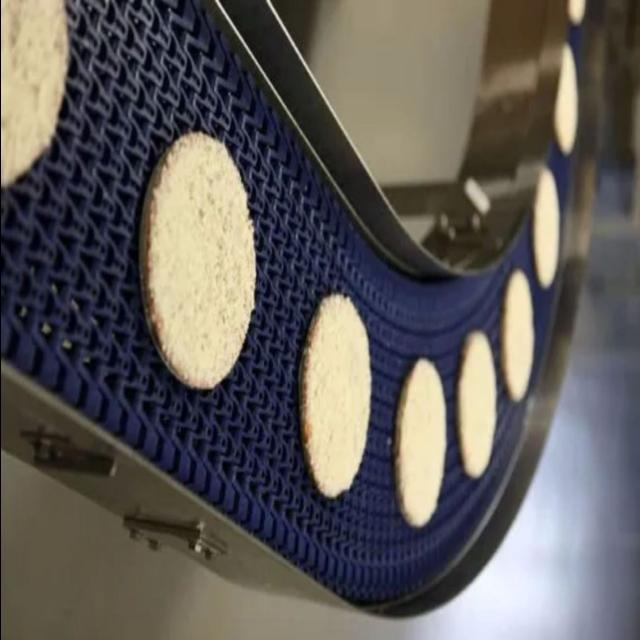food: (136, 129, 258, 391), (279, 283, 389, 517), (388, 340, 456, 560)
